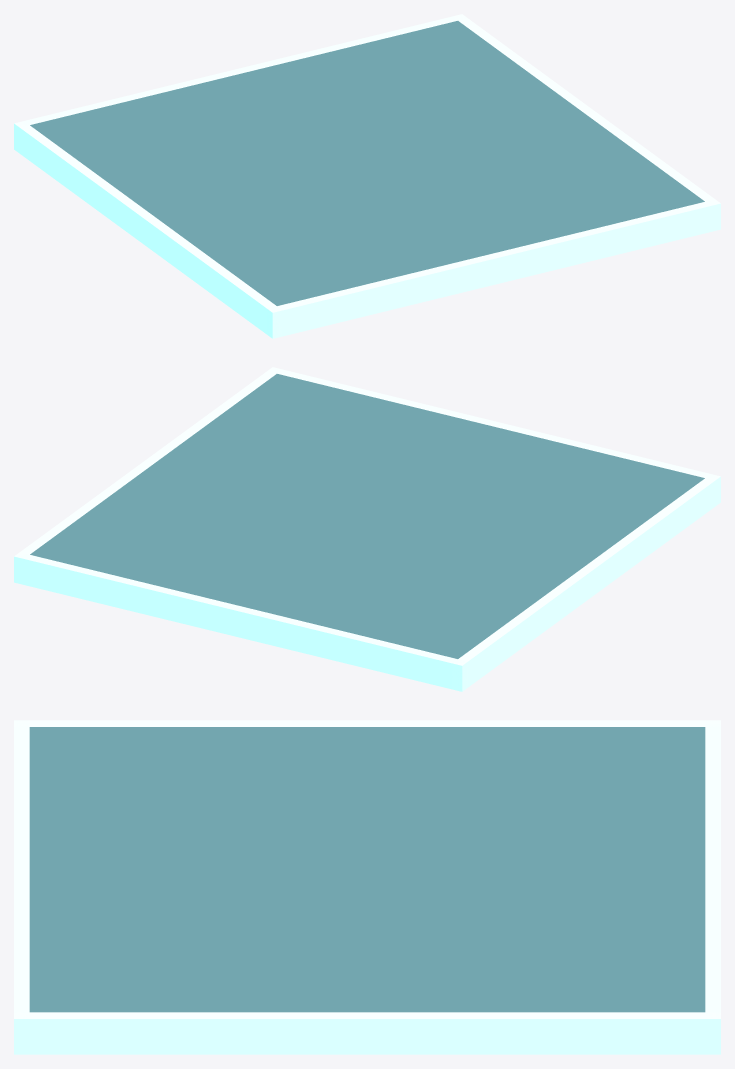
File: glass_pane.glb
3 views of the same model, one above another, from view 1: azimuth 30°, elevation 25°; view 2: azimuth 150°, elevation 25°; view 3: azimuth 270°, elevation 25° (orthographic). The views are drawn at different scales.
Parts seen in each view (by area): view 1: Mesh; view 2: Mesh; view 3: Mesh.
Part boxes in pixels (x1,y1,x2,y2): Mesh: (14,14,720,338); Mesh: (14,367,720,691); Mesh: (14,720,720,1054).
Bounding box in the file's own units: 0.9 × 0.05 × 0.9.
